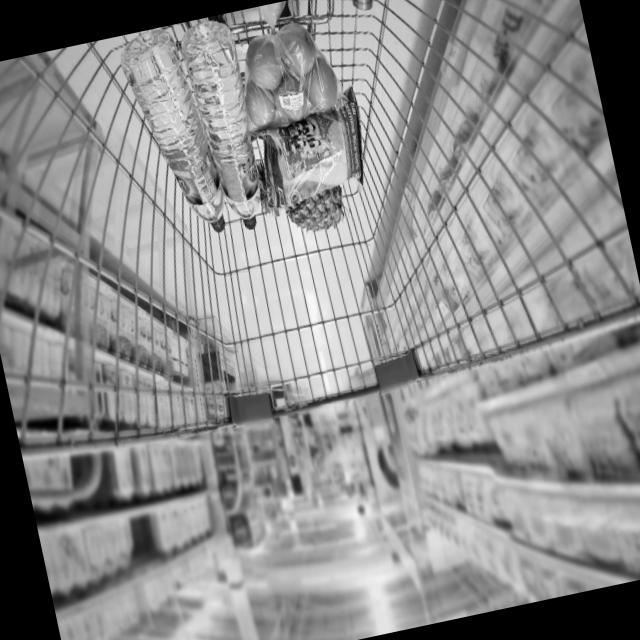apple: (232, 17, 346, 140)
pineapple: (246, 146, 351, 250)
